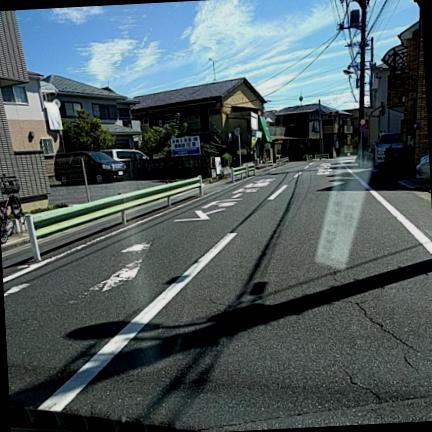Road: (2, 158, 431, 431)
